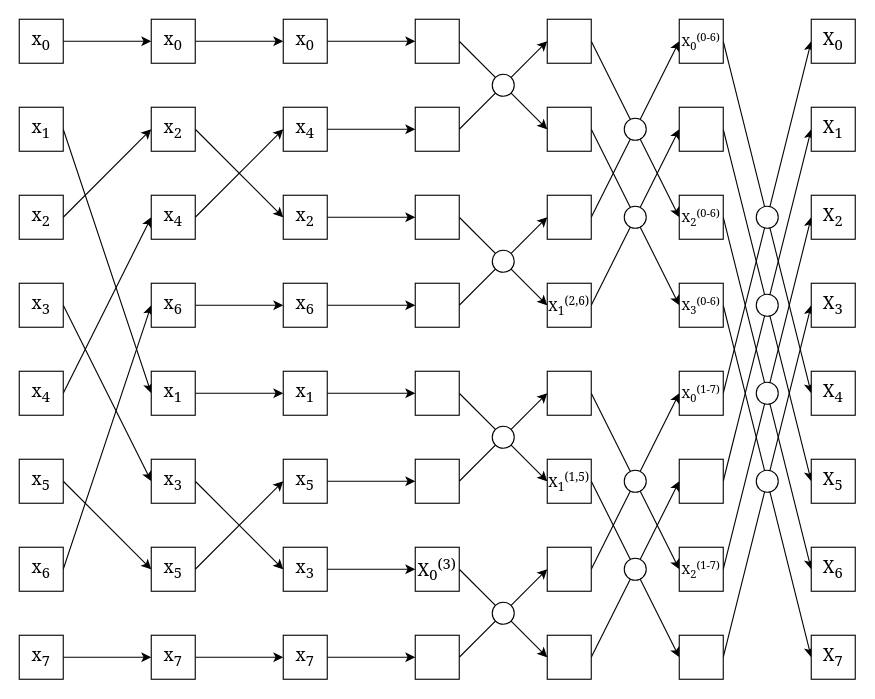
The diagram is 875 pixels wide and 699 high, and some of its shapes have lost their labels. Each missing label, with the box of its shape:
X 0 (0): (414, 18, 459, 63)
X 0 (0,4): (546, 18, 591, 63)
X 0 (1): (414, 370, 459, 415)
X 0 (1,5): (546, 370, 591, 415)
X 0 (2): (414, 194, 459, 239)
X 0 (2,6): (546, 194, 591, 239)
X 0 (3,7): (546, 546, 591, 591)
X 0 (4): (414, 106, 459, 151)
X 0 (5): (414, 458, 459, 503)
X 0 (6): (414, 282, 459, 327)
X 0 (7): (414, 634, 459, 679)
X 1 (0,4): (546, 106, 591, 151)
X 1 (0-6): (678, 106, 723, 151)
X 1 (1-7): (678, 458, 723, 503)
X 1 (3,7): (546, 634, 591, 679)
X 3 (1-7): (678, 634, 723, 679)
